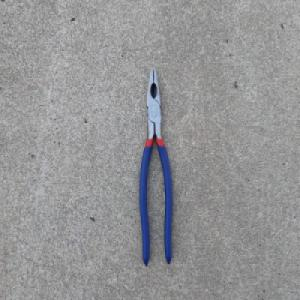Pliers: (138, 65, 175, 268)
